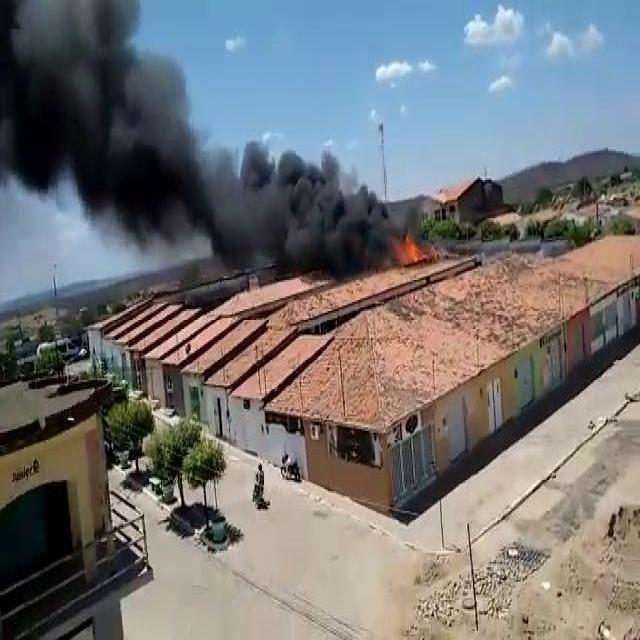Fire: (393, 206, 450, 269)
Smoke: (0, 6, 398, 269)
